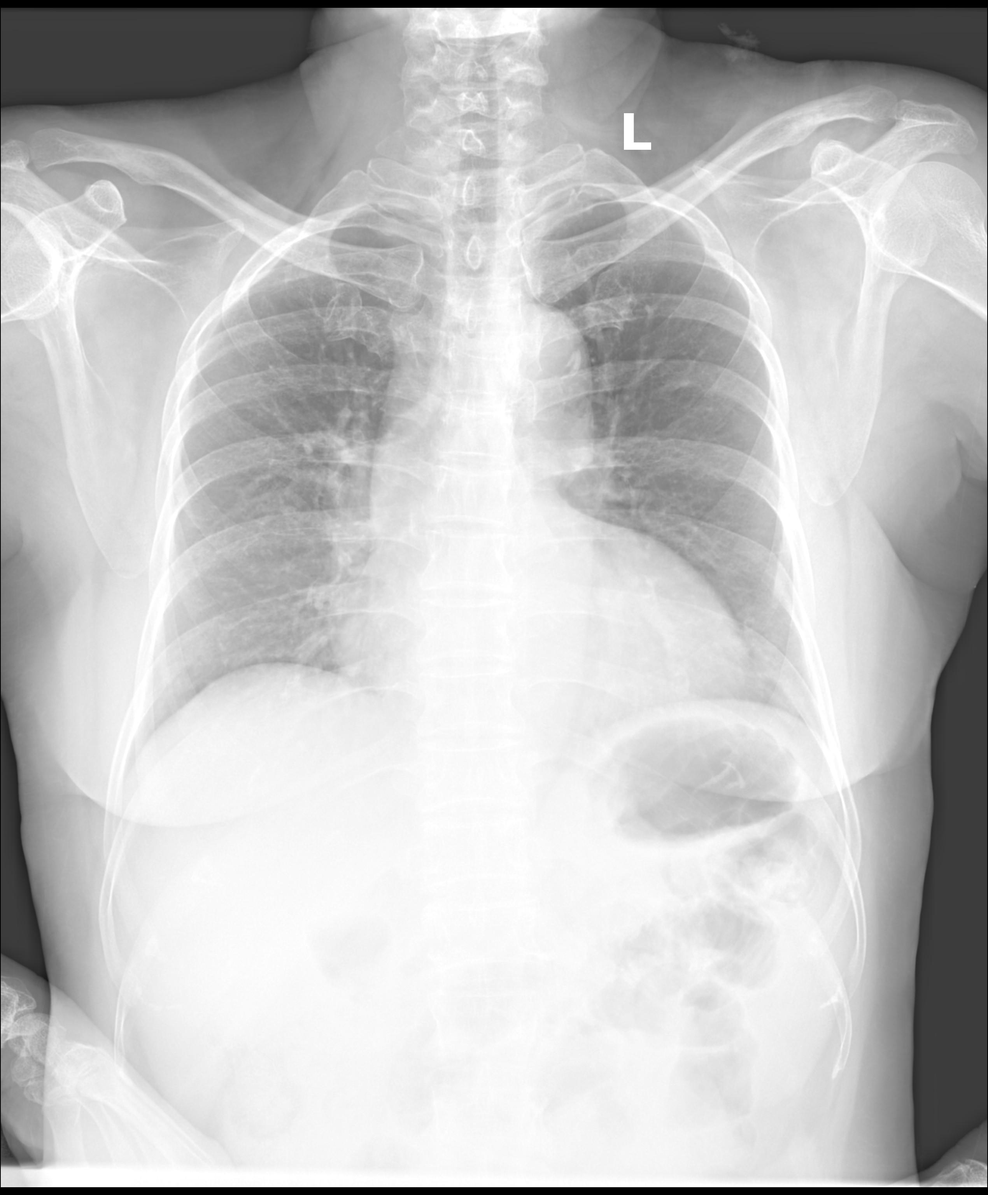Aortic enlargement: (468, 302, 598, 489)
Cardiomegaly: (320, 570, 755, 713)
Pulmonary fibrosis: (245, 379, 363, 509)
